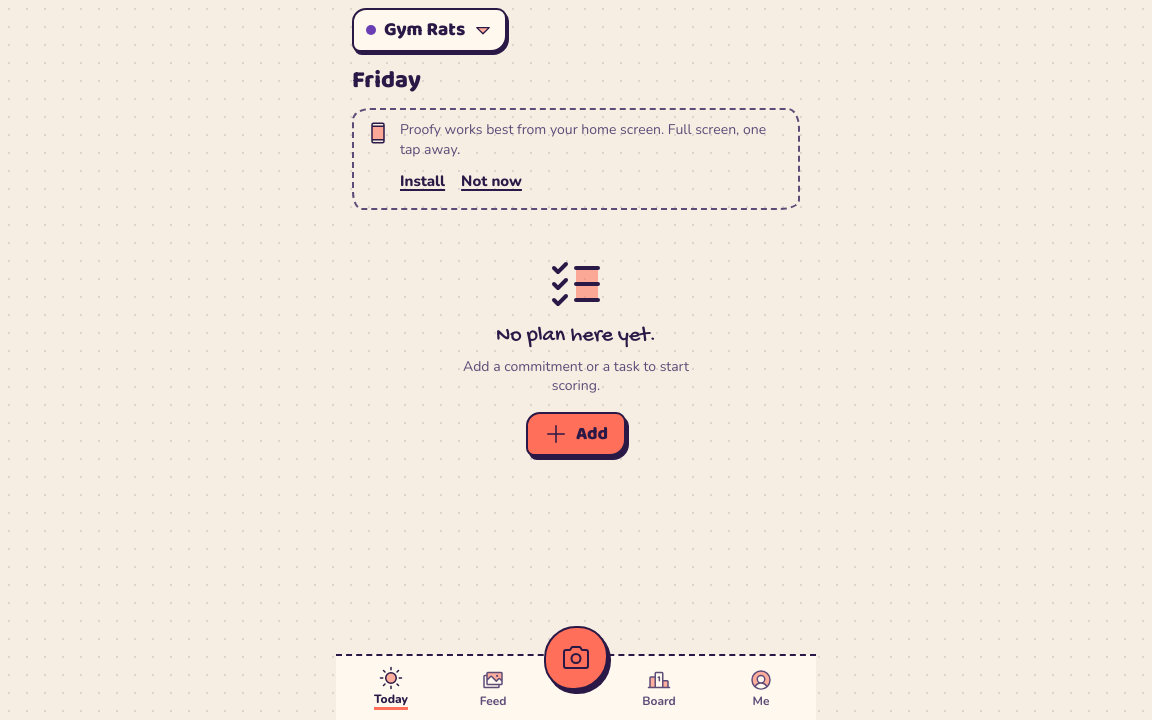
Today install notice › Hint Install with a kept prompt opens the browser prompt
The image size is (1152, 720).
Expected: the button with aria-label "Group: Gym Rats, switch group" is shown, [352, 8, 507, 52]
Click the button "Install". click: (423, 182)
box: [396, 160, 449, 204]
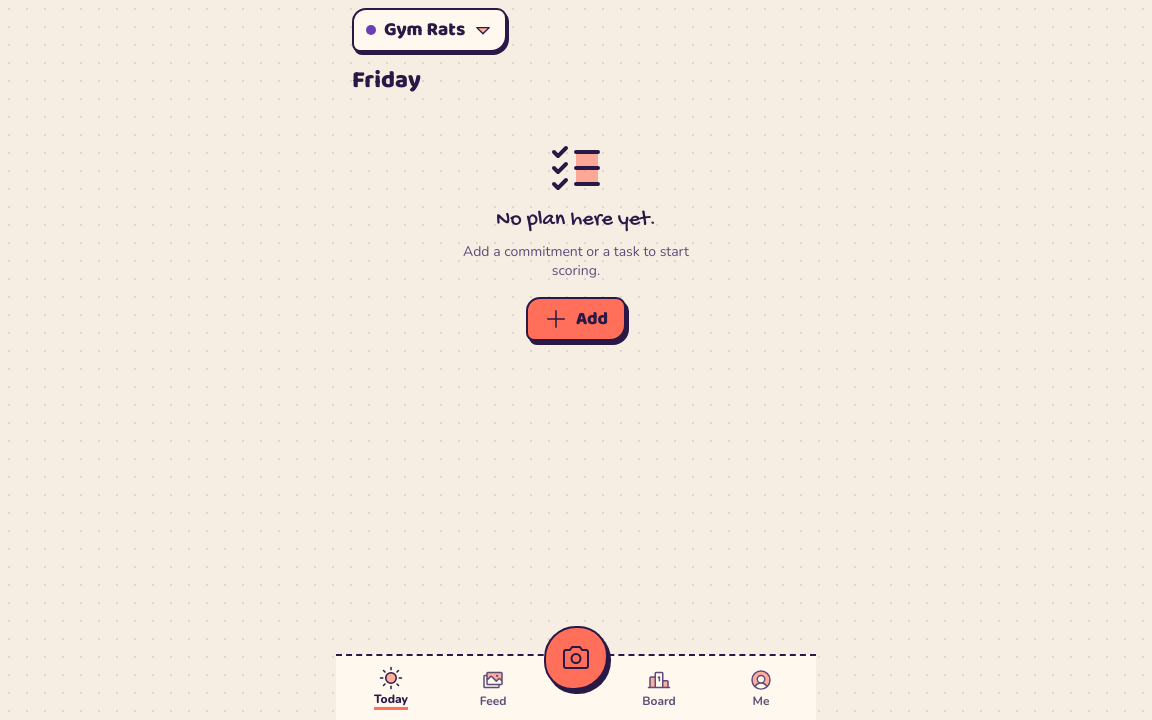
Now the text "Proofy works best from your home screen. Full screen, one tap away." is gone
